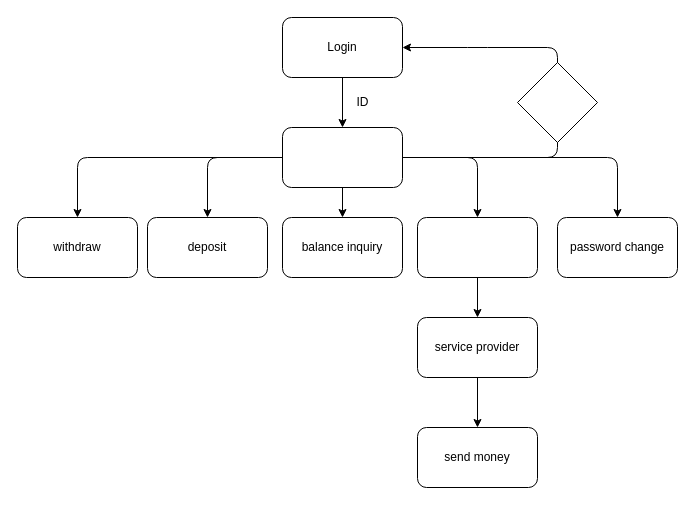
The diagram is 695 pixels wide and 505 high, and some of its shapes have lost their labels. Here are the shapes that lost their labels. From the top down, the centre of each, then its label:
point (557, 102): exit
point (342, 157): Home
point (477, 247): fawry service
